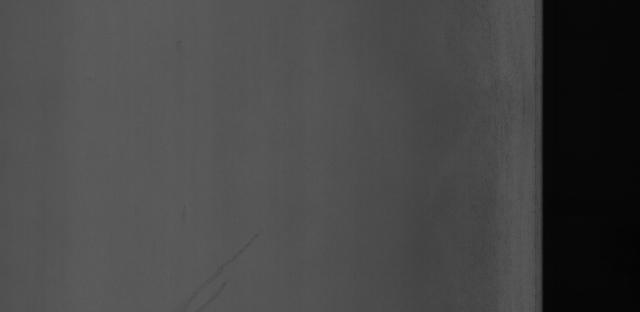water_spot: (185, 241, 263, 312)
